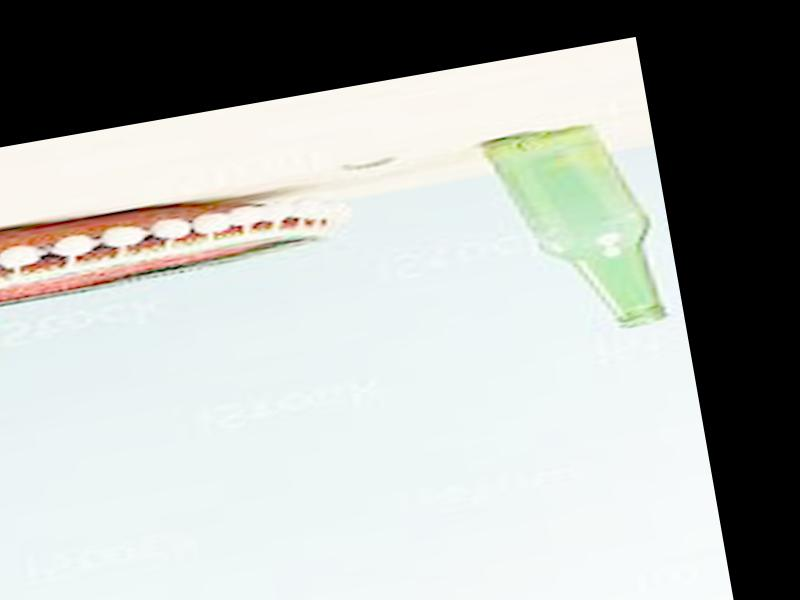Beer: (476, 111, 663, 350)
